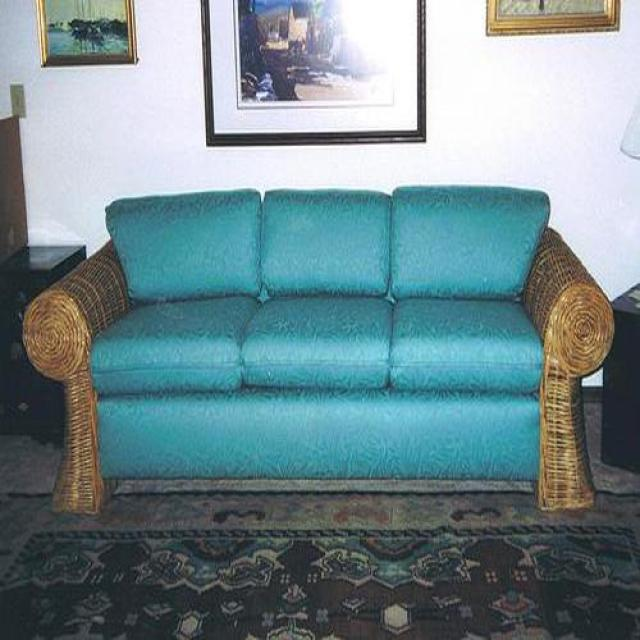sofa: (23, 186, 616, 516)
